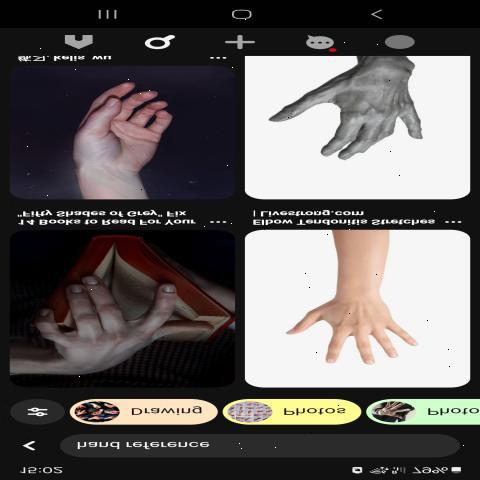Hands: (35, 251, 224, 380), (259, 57, 447, 181), (283, 264, 440, 384), (60, 84, 208, 202)
